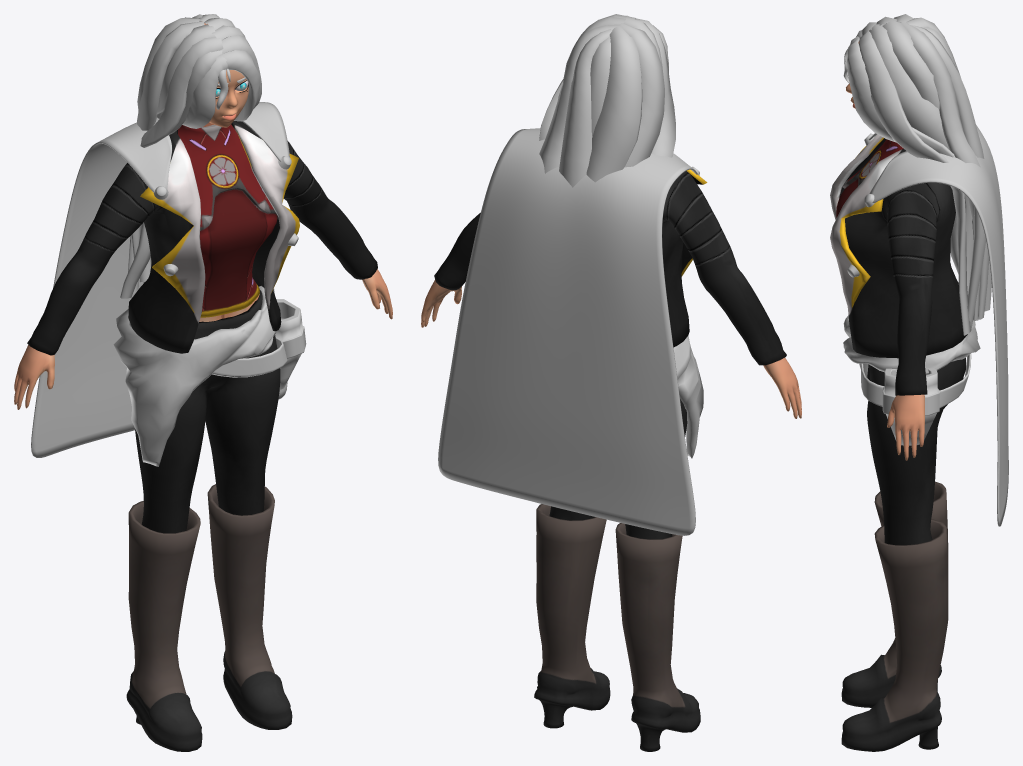
The model's file is M_Gunslinger.fbx.
3 renders of one model, left to right at view 1: azimuth 30°, elevation 25°; view 2: azimuth 150°, elevation 25°; view 3: azimuth 270°, elevation 25°, orthographic.
Visible parts, largest first — view 1: M_Gunslinger; view 2: M_Gunslinger; view 3: M_Gunslinger.
Part boxes in pixels (x1=…): M_Gunslinger: x1=14, y1=14, x2=392, y2=751; M_Gunslinger: x1=421, y1=14, x2=801, y2=751; M_Gunslinger: x1=830, y1=14, x2=1008, y2=751.
Size of the model in its own units: 3988 by 7114 by 1651.
